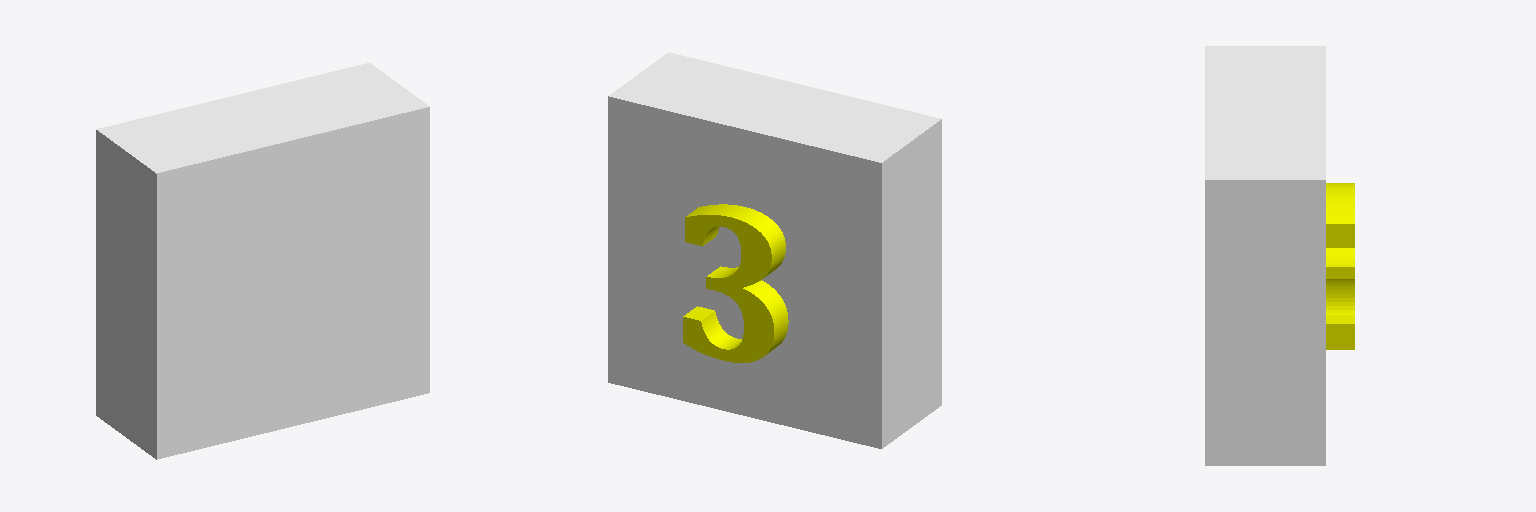
The picture shows the model from 3 angles: view 1: azimuth 30°, elevation 25°; view 2: azimuth 150°, elevation 25°; view 3: azimuth 270°, elevation 25°; orthographic projection.
Visible parts, largest first — view 1: テキスト; view 2: テキスト; view 3: テキスト.
Boxes of the visible parts, x1,y1,x2,y2 form: テキスト: [96, 63, 429, 459]; テキスト: [608, 52, 941, 448]; テキスト: [1205, 46, 1354, 465].
Bounding box in the file's own units: 2 × 2 × 0.9446.
Materials: 1 (1 with a texture image).